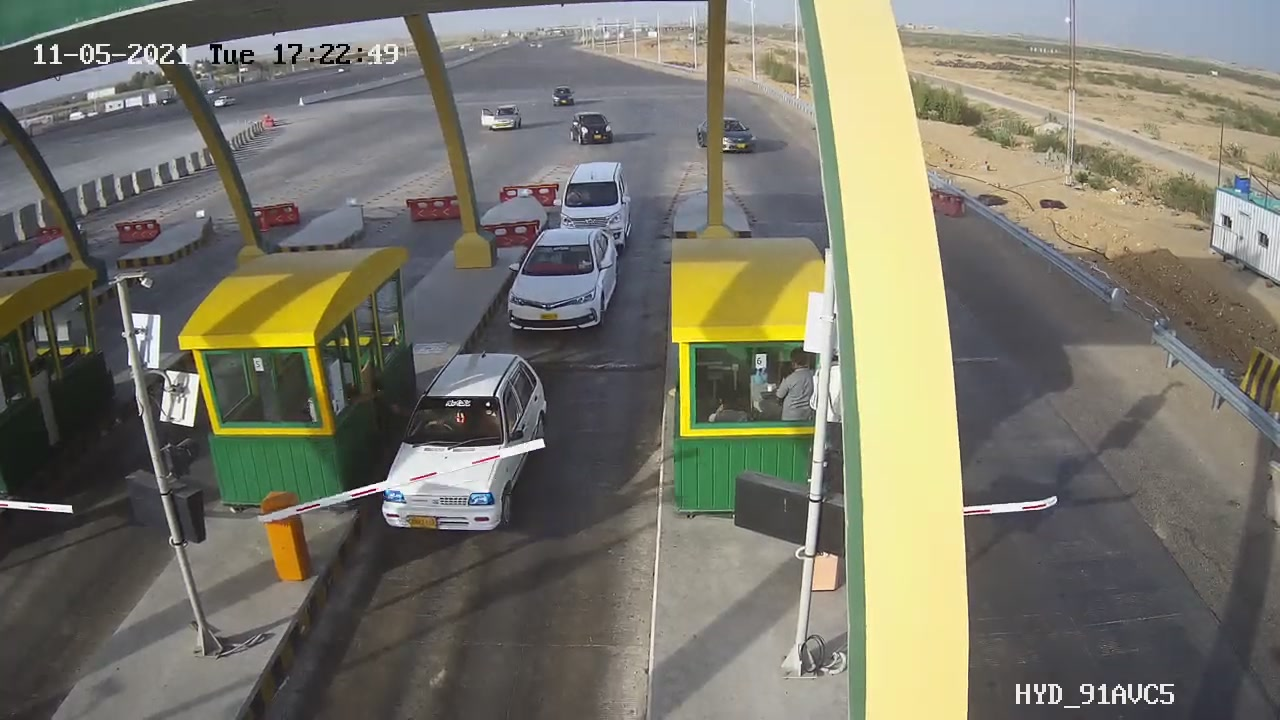F1: (363, 334, 568, 551), (487, 217, 639, 348)
